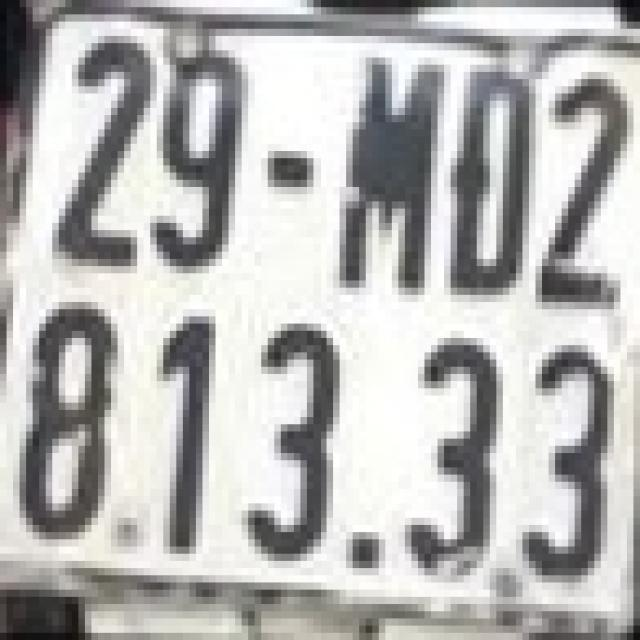1: (157, 316, 216, 561)
2: (52, 36, 150, 266), (542, 72, 627, 310)
3: (248, 316, 340, 561), (522, 345, 614, 583), (412, 330, 496, 576)
8: (13, 294, 118, 540)
9: (156, 43, 242, 266)
D: (450, 65, 530, 295)
M: (337, 40, 448, 292)
